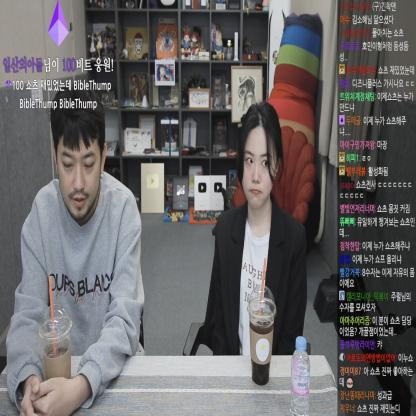donation: (2, 0, 114, 112)
streamer: (6, 83, 145, 416), (216, 100, 307, 355)
